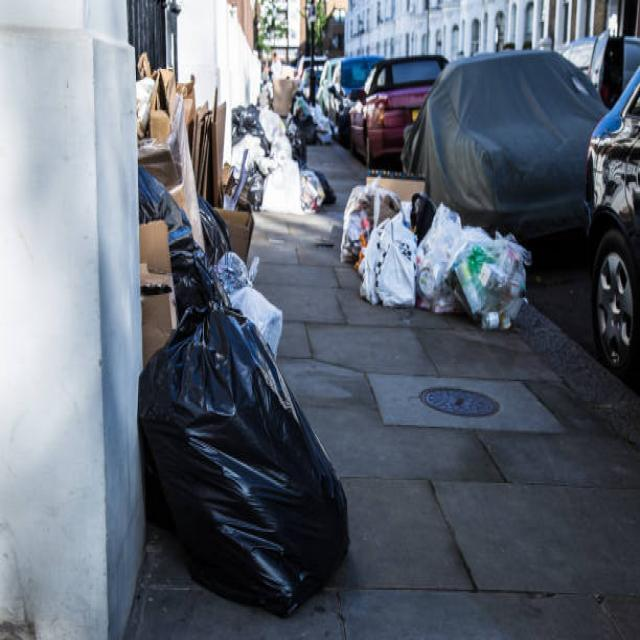garbage: (124, 298, 358, 640), (346, 154, 534, 342), (135, 46, 229, 294), (231, 98, 337, 218), (268, 70, 297, 117)
